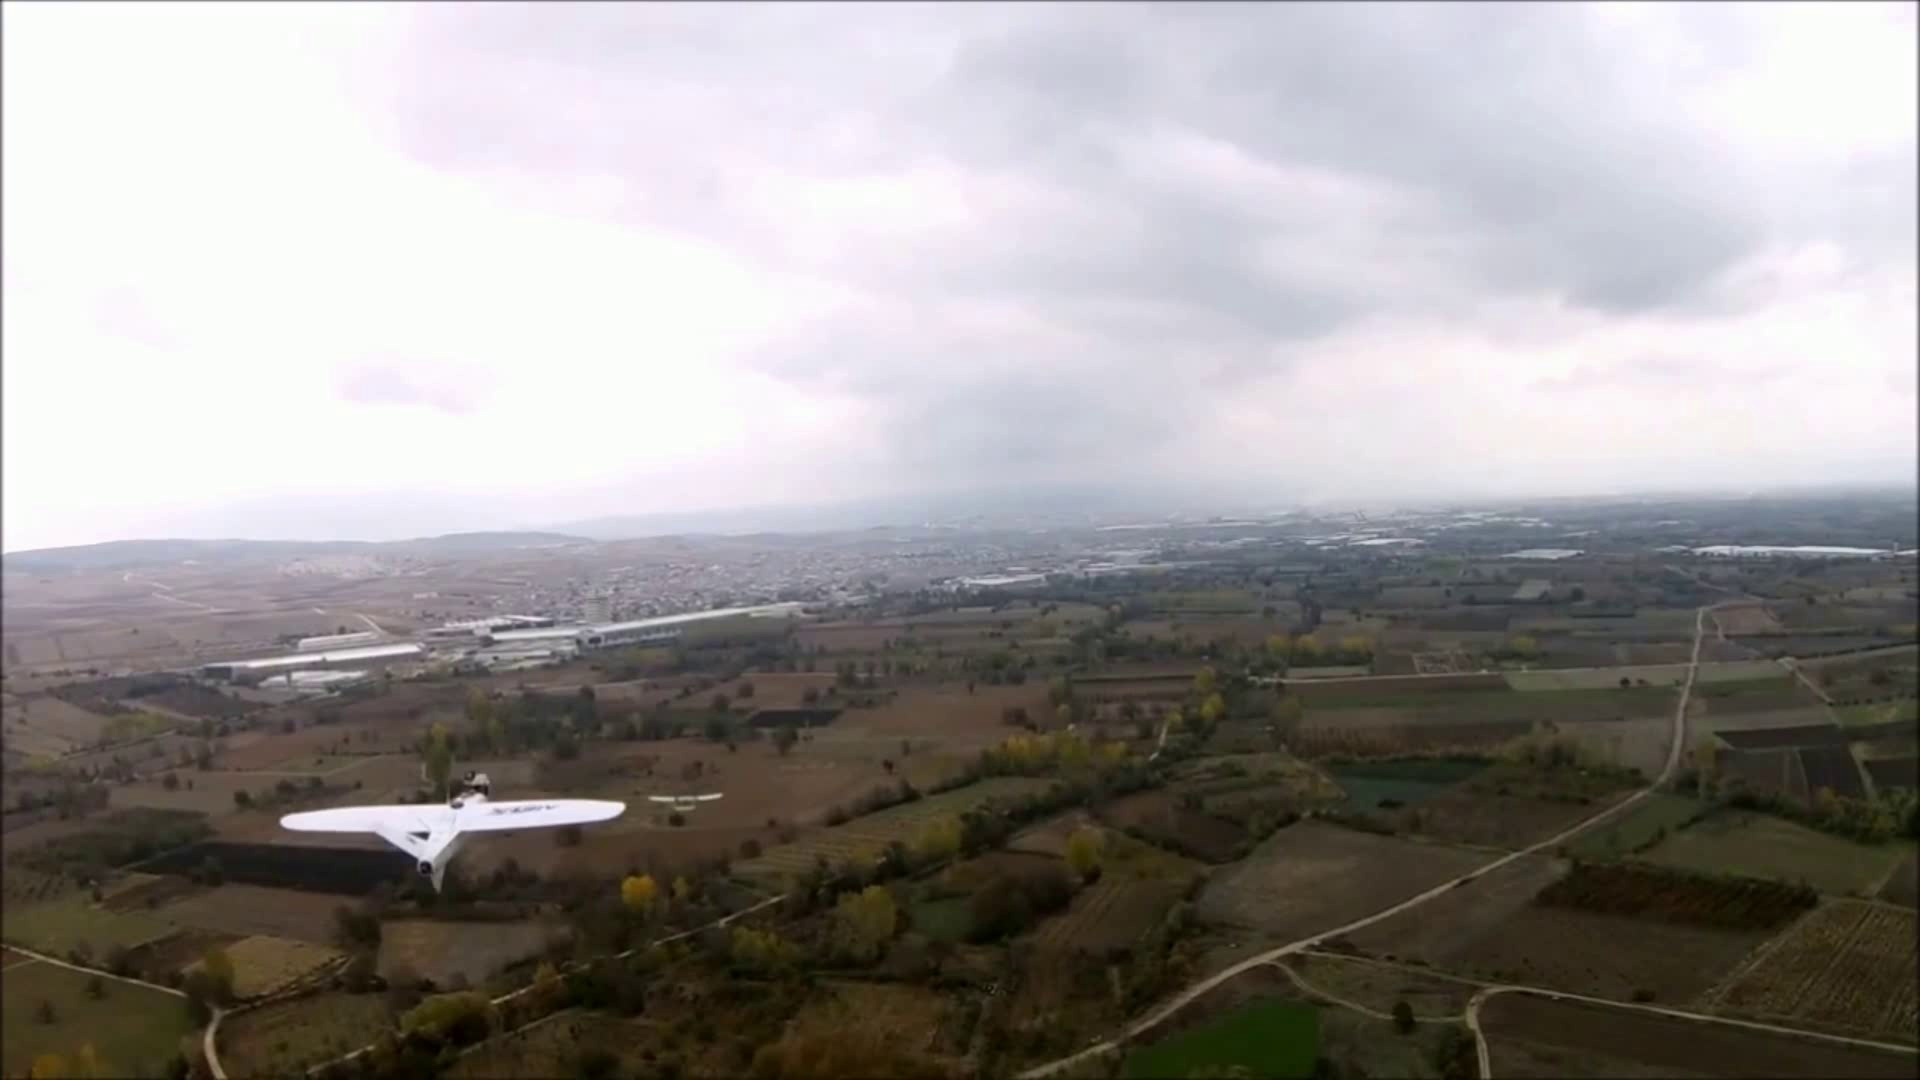airplane: (276, 797, 628, 889)
